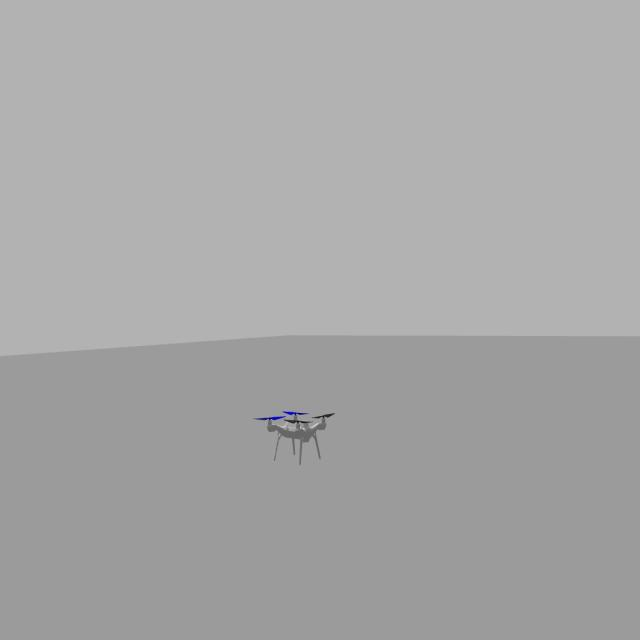Drone: (251, 400, 337, 464)
